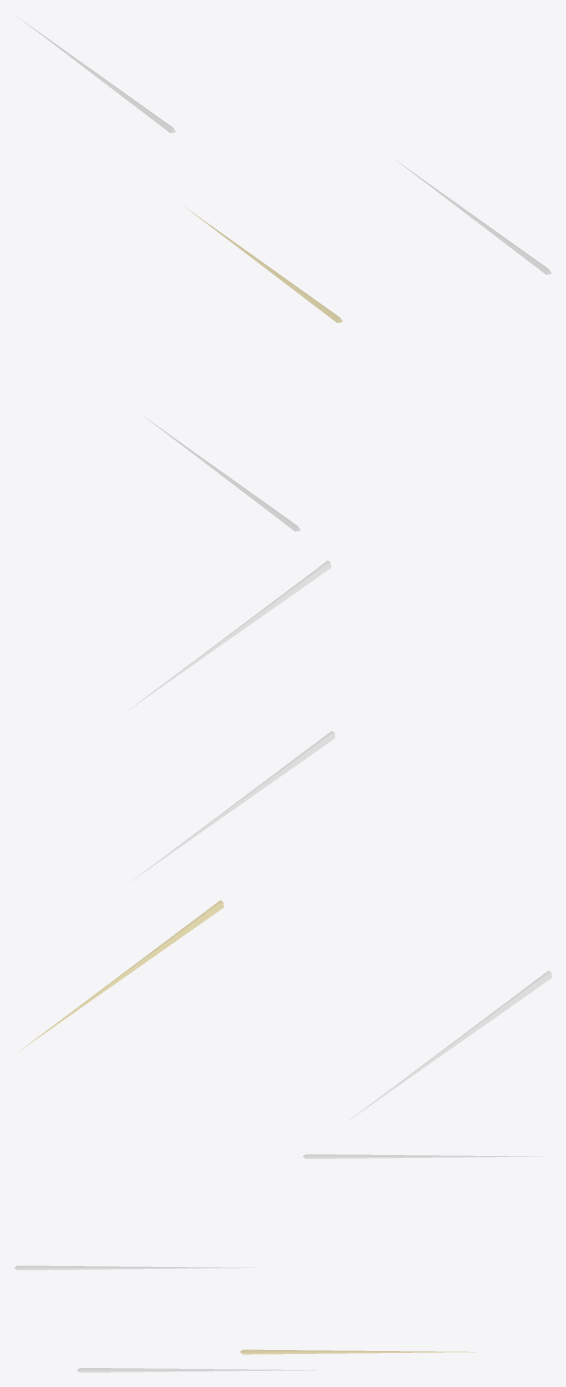
3 views of the same model, one above another, from view 1: azimuth 30°, elevation 25°; view 2: azimuth 150°, elevation 25°; view 3: azimuth 270°, elevation 25° (orthographic). The views are drawn at different scales.
Visible parts, largest first — view 1: object0; view 2: object0; view 3: object0.
Boxes of the visible parts, x1,y1,x2,y2 form: object0: (17, 16, 551, 531); object0: (19, 560, 551, 1121); object0: (14, 1154, 542, 1372).
Bounding box in the file's own units: 3942 × 5081 × 10983.
